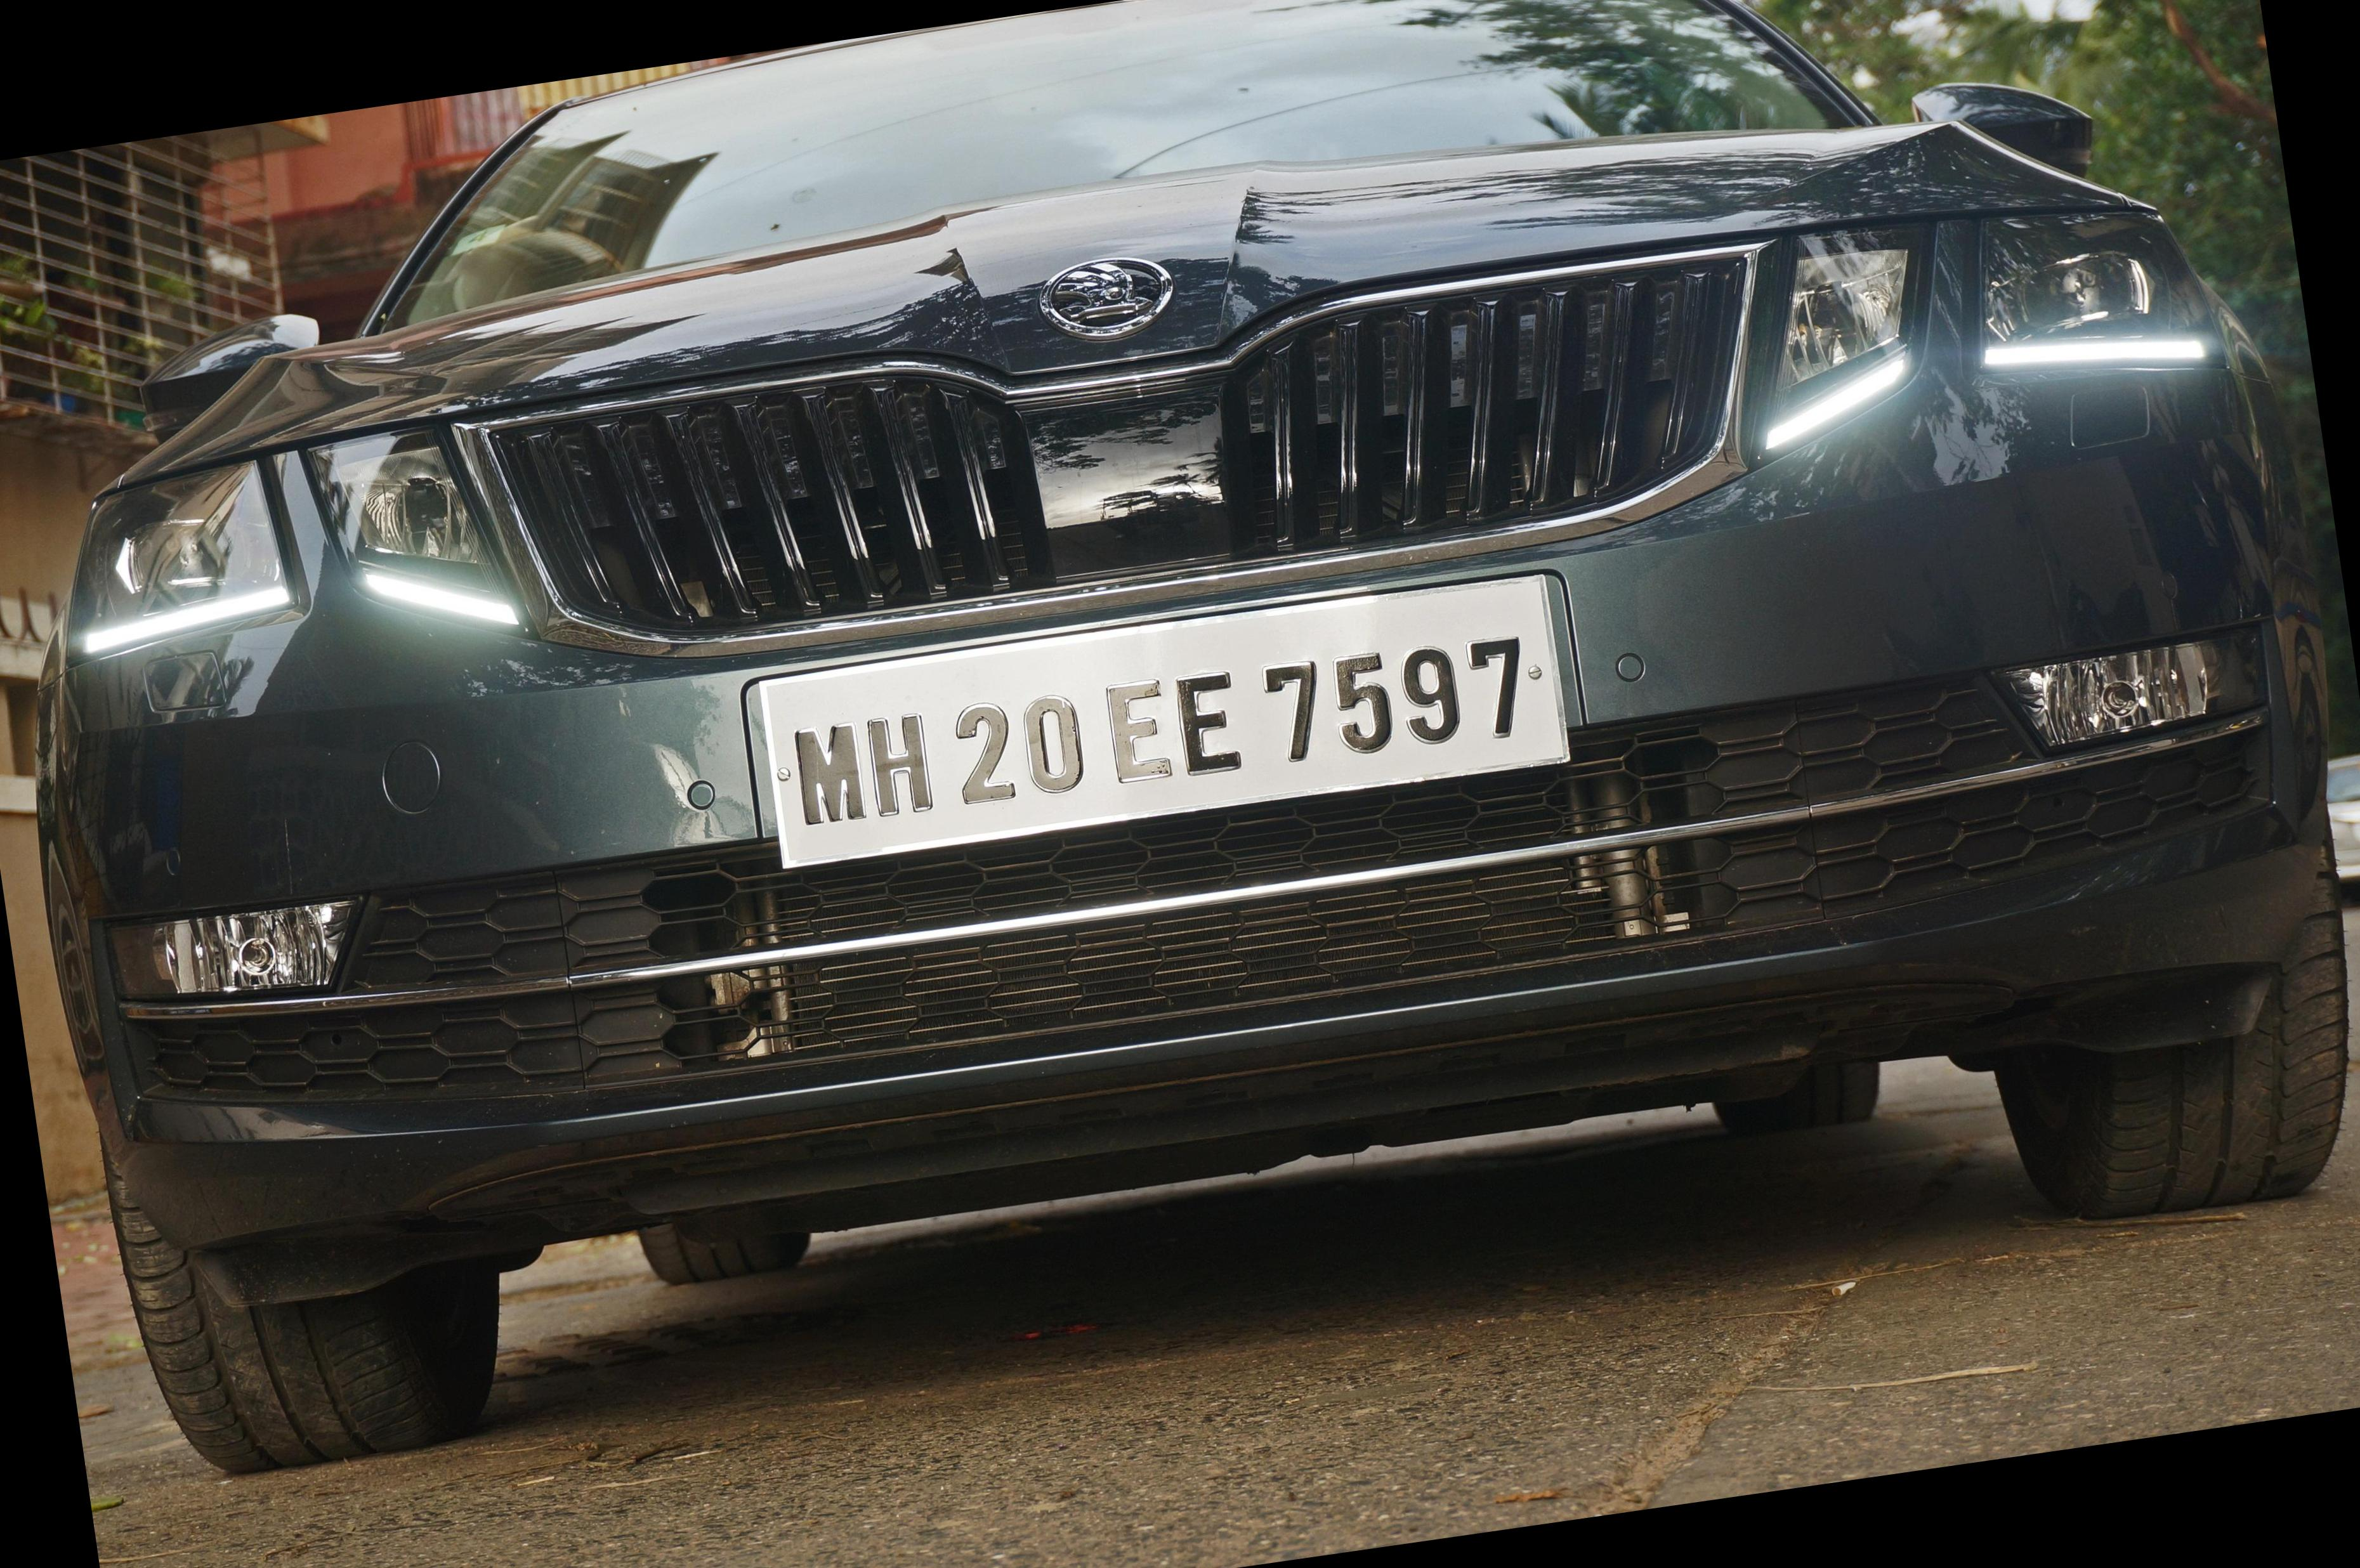plate: (731, 559, 1583, 919)
